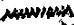Water: (1, 4, 74, 22)
